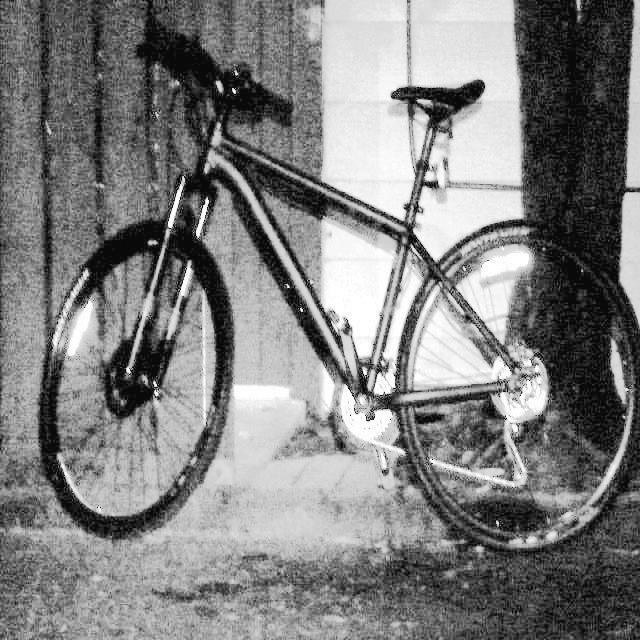Bicycle: (41, 72, 637, 573)
